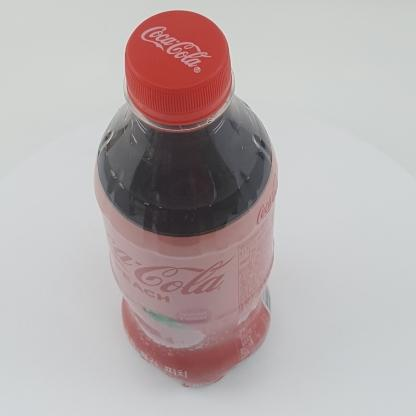-----------390ML: (94, 10, 278, 387)
